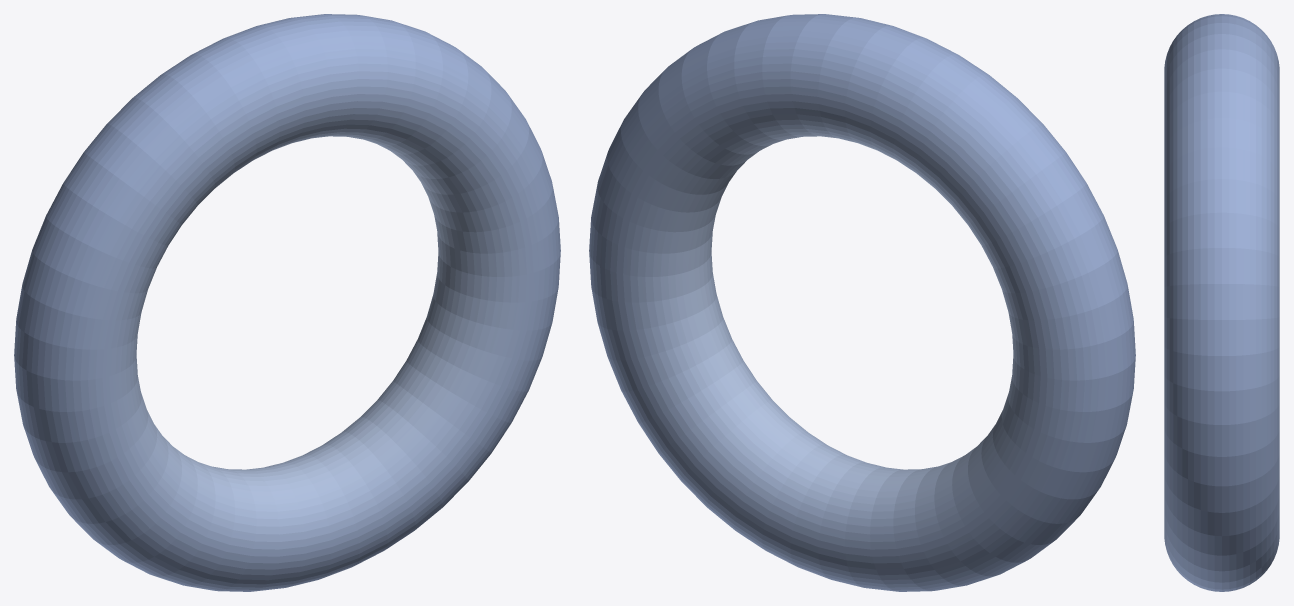
3 views of the same model, side by side, from view 1: azimuth 30°, elevation 25°; view 2: azimuth 150°, elevation 25°; view 3: azimuth 270°, elevation 25° (orthographic). The views are drawn at different scales.
Parts seen in each view (by area): view 1: world; view 2: world; view 3: world.
Part boxes in pixels (x1,y1,x2,y2): world: (14, 14, 560, 591); world: (589, 14, 1135, 591); world: (1164, 14, 1279, 591).
Bounding box in the file's own units: 23.33 × 23.29 × 4.66.
